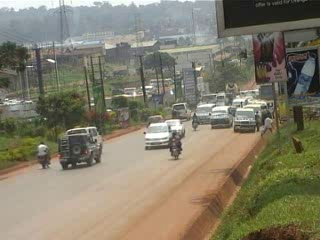Car: (55, 131, 106, 171), (140, 121, 173, 151), (162, 117, 186, 140), (144, 112, 164, 130)
Motorcycle: (36, 138, 54, 170), (165, 131, 183, 160), (189, 110, 201, 133), (168, 107, 181, 123)
